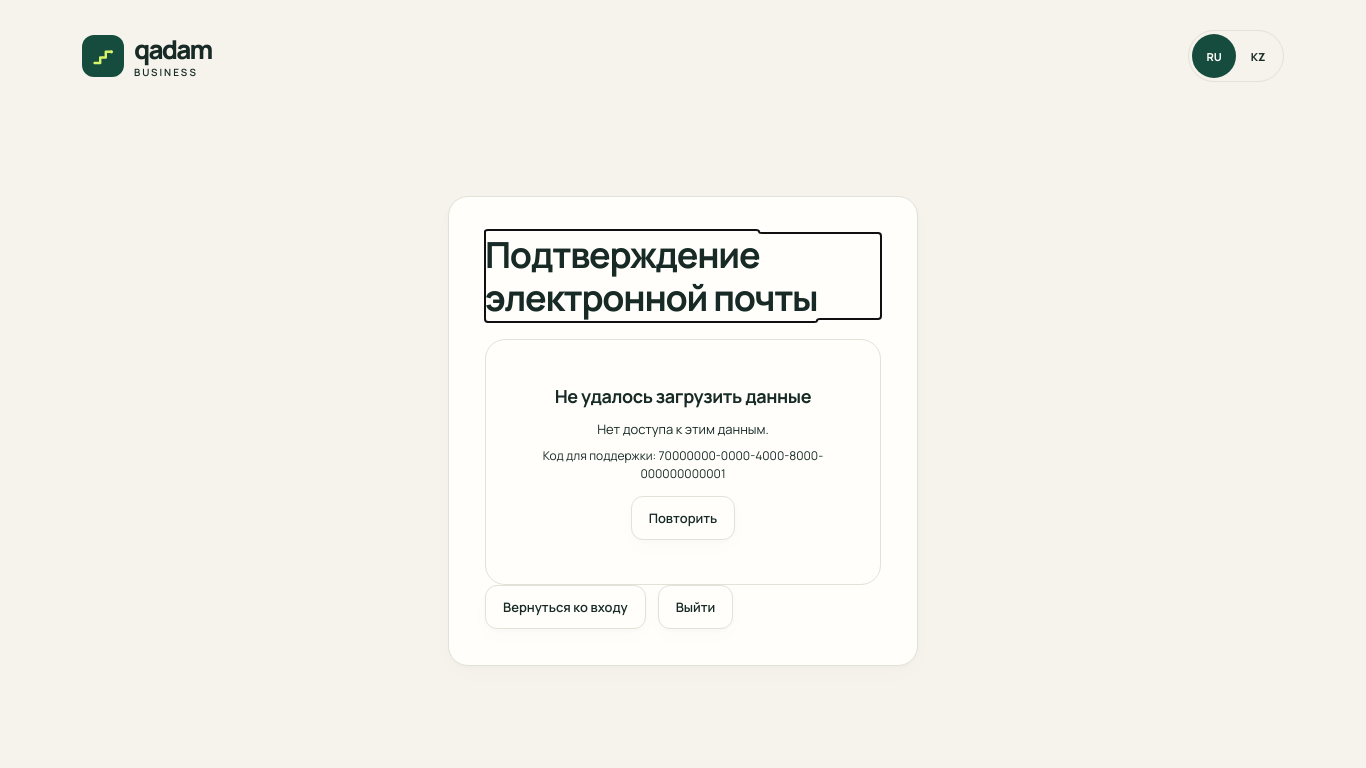
Test case: PKCE confirmation boundaries (isolated SDK/API) › /me 403 failure never becomes empty membership or Demo
Expected: the message is shown, [485,339,881,586]
Expected: the text "У вас пока нет торговых точек" is not shown
Click the button "Повторить" at (683, 518), box [631,496,735,540]
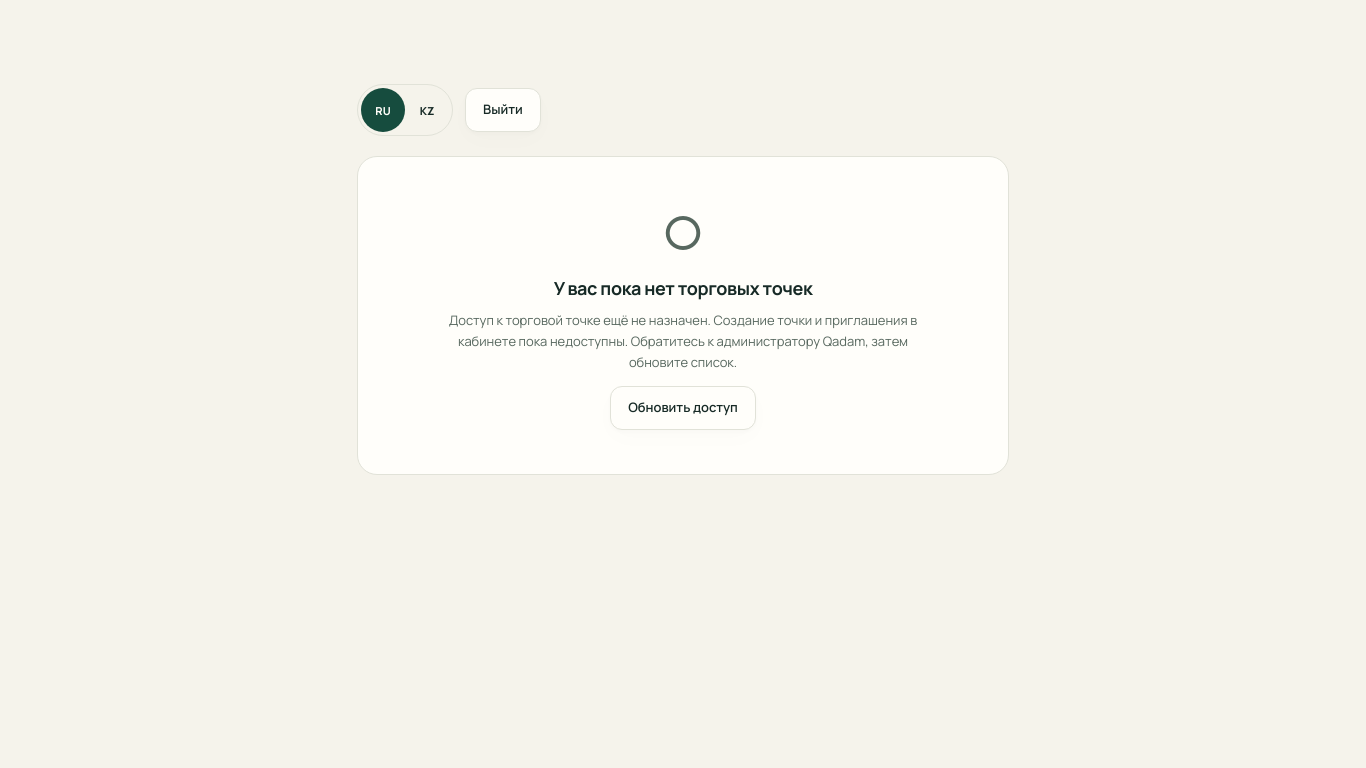
Now the heading "У вас пока нет торговых точек" is shown, box [554,276,812,300]
